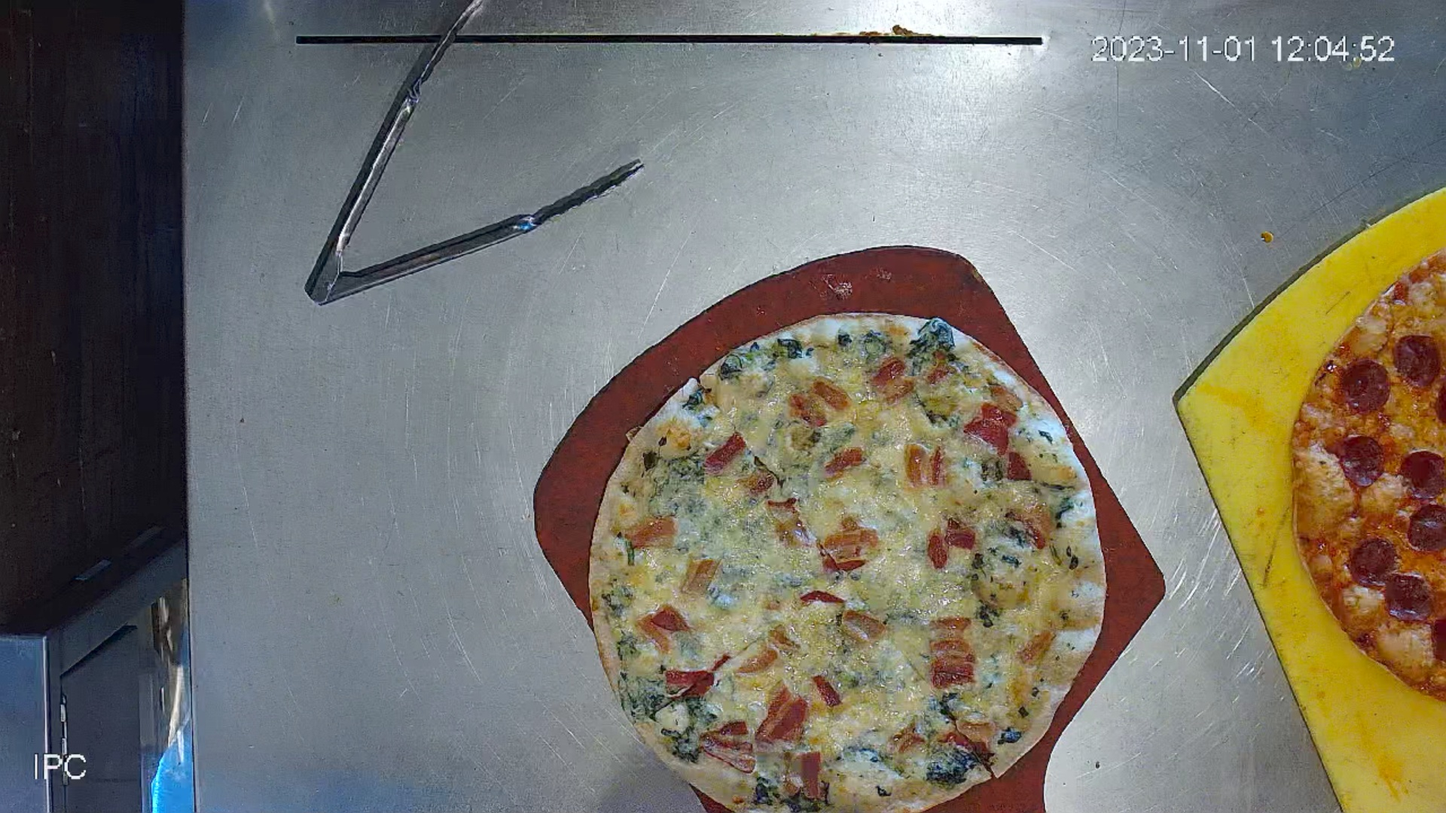pepporoni: (587, 310, 1107, 813), (1294, 254, 1446, 712)
